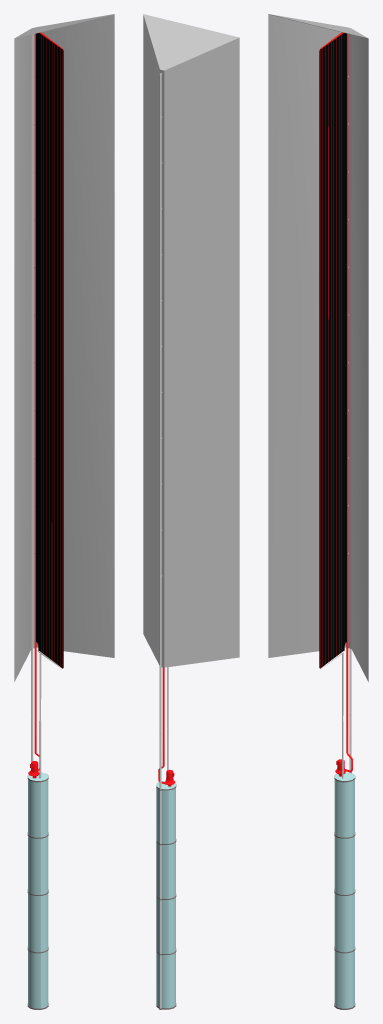
File: TowerRadiator_Small.glb
The picture shows the model from 3 angles, left to right: view 1: azimuth 30°, elevation 25°; view 2: azimuth 150°, elevation 25°; view 3: azimuth 330°, elevation 25°; orthographic projection. The views are drawn at different scales.
Visible parts, largest first — view 1: TowerRadiator_Small_LOD0; view 2: TowerRadiator_Small_LOD0; view 3: TowerRadiator_Small_LOD0.
Boxes of the visible parts, x1=… form: TowerRadiator_Small_LOD0: x1=14, y1=14, x2=114, y2=1009; TowerRadiator_Small_LOD0: x1=143, y1=14, x2=239, y2=1009; TowerRadiator_Small_LOD0: x1=268, y1=14, x2=368, y2=1009.
Size of what is drawn, in the model's own units: 6.62 by 63.02 by 3.75.
